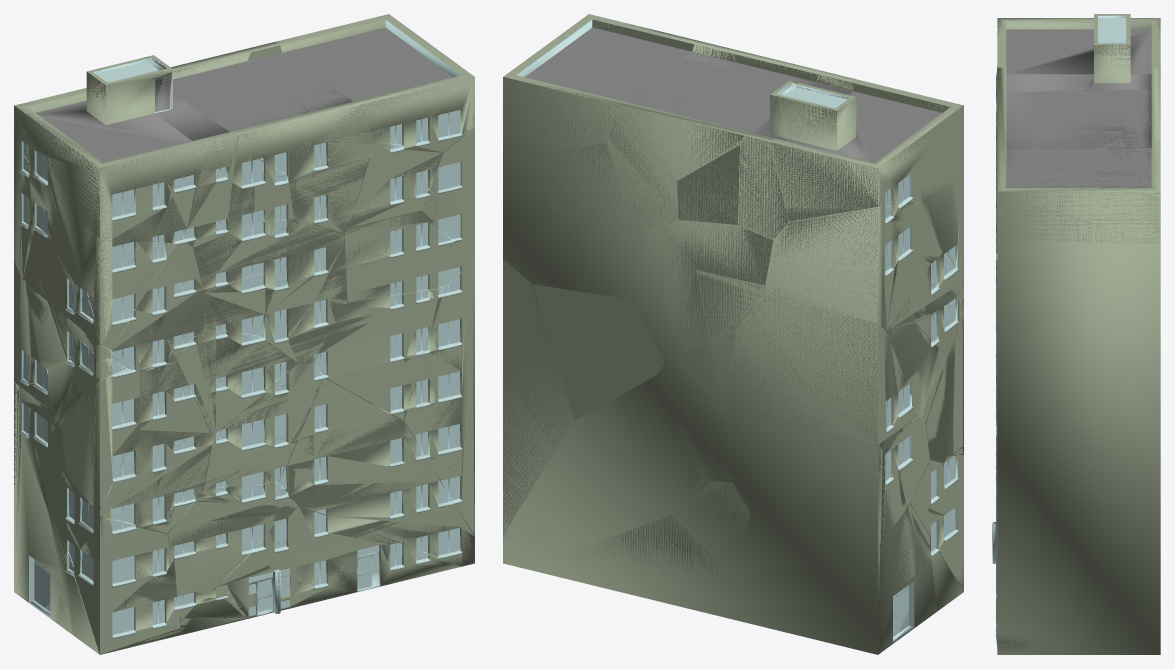
The model's file is building2.fbx.
The picture shows the model from 3 angles, left to right: view 1: azimuth 30°, elevation 25°; view 2: azimuth 150°, elevation 25°; view 3: azimuth 270°, elevation 25°; orthographic projection. The views are drawn at different scales.
Parts seen in each view (by area): view 1: Building_C1, Building_C1_cell.003, Building_C1_cell.031, Building_C1_cell.020, Building_C1_cell.025, Building_C1_cell.002, Building_C1_cell.024, Building_C1_cell.018, Building_C1_cell.010, Building_C1_cell.004, Building_C1_cell.019, Building_C1_cell.007 (+21 smaller); view 2: Building_C1, Building_C1_cell.003, Building_C1_cell.002, Building_C1_cell.024, Building_C1_cell.010, Building_C1_cell, Building_C1_cell.023, Building_C1_cell.006, Building_C1_cell.013, Building_C1_cell.018, Building_C1_cell.025, Building_C1_cell.020 (+14 smaller); view 3: Building_C1, Building_C1_cell.002, Building_C1_cell.003, Building_C1_cell.006, Building_C1_cell.018, Building_C1_cell.031, Building_C1_cell.024, Building_C1_cell.032, Building_C1_cell.013.
Boxes of the visible parts, x1,y1,x2,y2 form: Building_C1: [14, 19, 474, 654]; Building_C1_cell.003: [14, 57, 206, 242]; Building_C1_cell.031: [279, 378, 474, 566]; Building_C1_cell.020: [180, 506, 460, 634]; Building_C1_cell.025: [46, 474, 180, 654]; Building_C1_cell.002: [276, 14, 474, 152]; Building_C1_cell.024: [404, 264, 474, 535]; Building_C1_cell.018: [247, 45, 374, 232]; Building_C1_cell.010: [314, 287, 442, 420]; Building_C1_cell.004: [344, 212, 473, 302]; Building_C1_cell.019: [204, 363, 322, 489]; Building_C1_cell.007: [168, 482, 297, 620]; Building_C1: [503, 19, 963, 654]; Building_C1_cell.003: [770, 79, 963, 221]; Building_C1_cell.002: [503, 14, 693, 153]; Building_C1_cell.024: [503, 260, 572, 534]; Building_C1_cell.010: [532, 284, 663, 420]; Building_C1_cell: [724, 296, 919, 444]; Building_C1_cell.023: [766, 203, 963, 329]; Building_C1_cell.006: [650, 54, 819, 177]; Building_C1_cell.013: [738, 75, 852, 238]; Building_C1_cell.018: [609, 46, 735, 228]; Building_C1_cell.025: [910, 454, 963, 586]; Building_C1_cell.020: [528, 515, 728, 606]; Building_C1: [992, 15, 1160, 654]; Building_C1_cell.002: [996, 139, 1160, 244]; Building_C1_cell.003: [996, 14, 1160, 103]; Building_C1_cell.006: [1006, 89, 1151, 131]; Building_C1_cell.018: [996, 129, 1151, 245]; Building_C1_cell.031: [996, 472, 1068, 654]; Building_C1_cell.024: [996, 388, 997, 622]; Building_C1_cell.032: [1094, 42, 1130, 55]; Building_C1_cell.013: [996, 57, 1130, 134].
Bounding box in the file's own units: 135 × 178 × 55.14.
